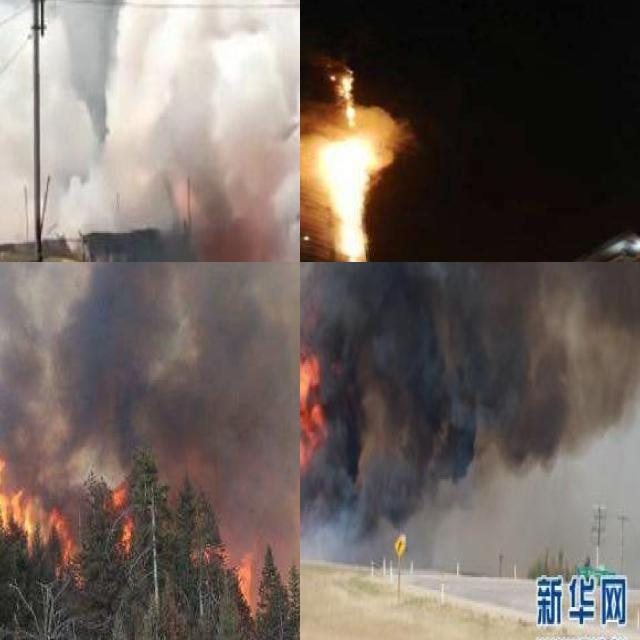fire: (0, 436, 135, 583), (317, 65, 400, 262), (203, 534, 260, 614)
smoke: (300, 262, 640, 549), (0, 262, 300, 576), (0, 0, 300, 233), (300, 103, 414, 198)
